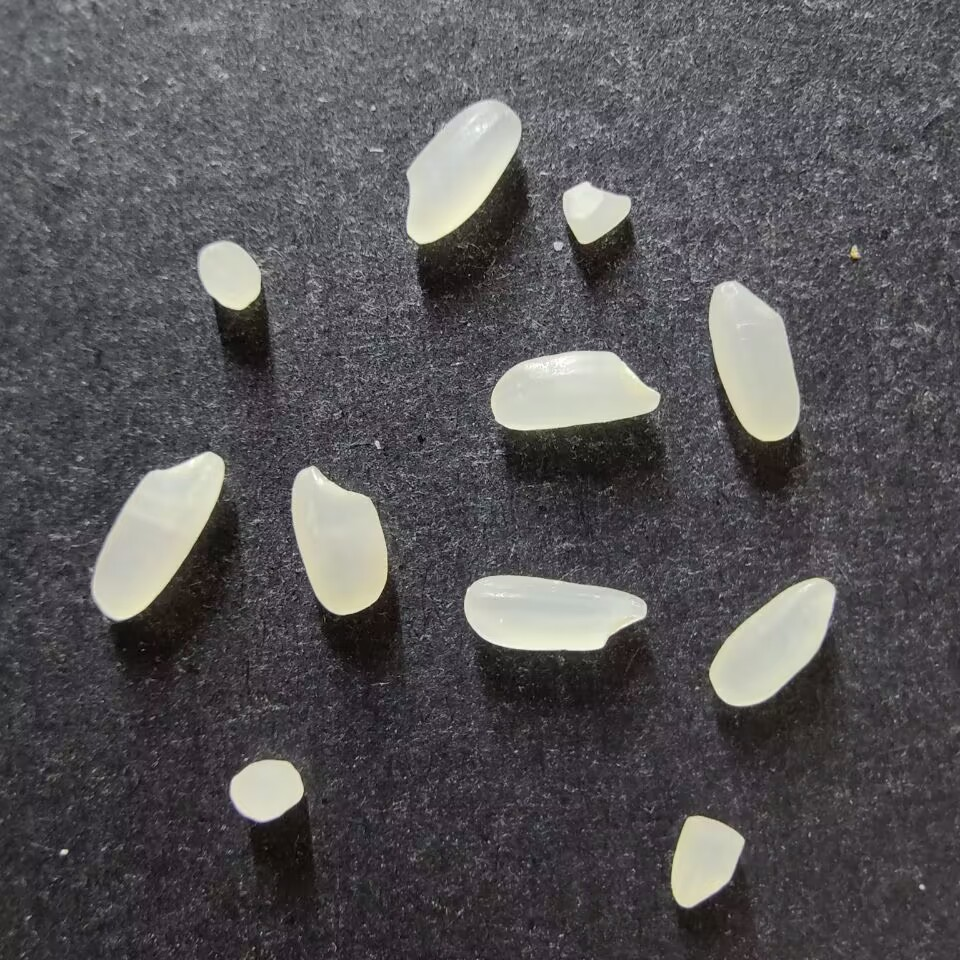broken: (669, 815, 744, 909), (229, 758, 303, 822), (196, 240, 262, 310), (561, 181, 632, 244)
rice: (90, 450, 225, 623), (404, 99, 521, 244), (707, 577, 836, 706), (707, 280, 800, 442), (289, 466, 389, 615), (463, 574, 647, 652), (489, 350, 661, 431)
